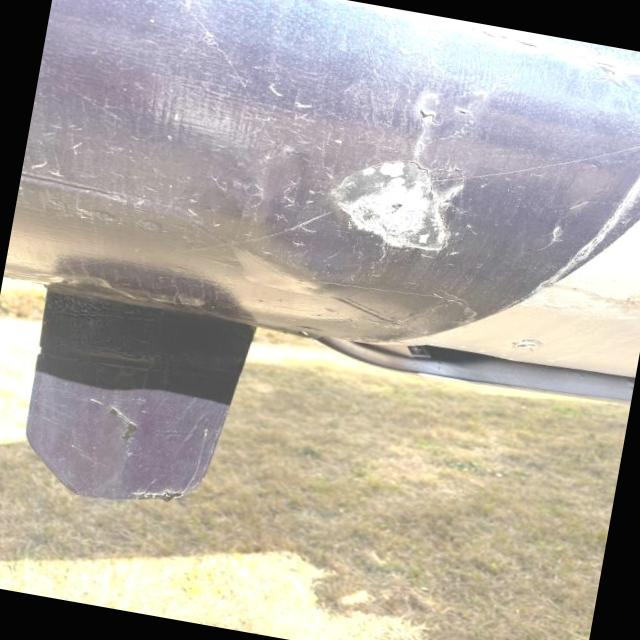crack: (416, 100, 476, 134)
dent: (300, 135, 482, 264)
